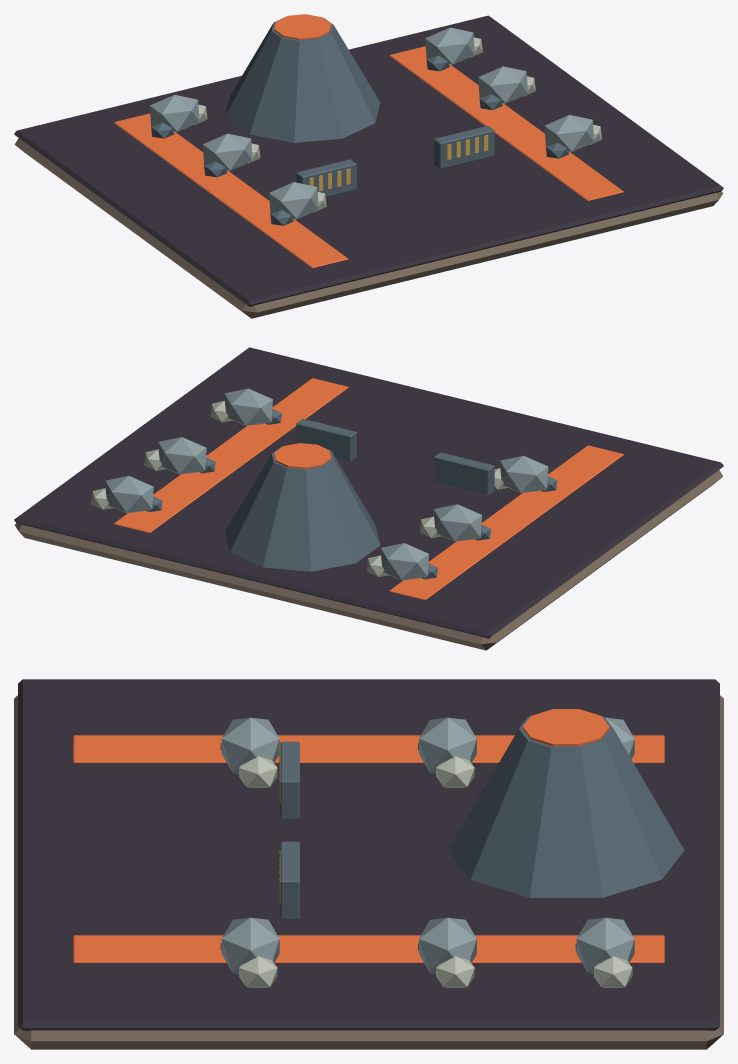
File: world-volcano.glb
3 renders of one model, top to bottom at view 1: azimuth 30°, elevation 25°; view 2: azimuth 150°, elevation 25°; view 3: azimuth 270°, elevation 25°, orthographic. The views are drawn at different scales.
Parts seen in each view (by area): view 1: terrain-top, volcano, terrain-stratum, lava-channel, lava-channel.001, barrier.002, rock.003, rock.012, rock.015, rock.018, rock.009, rock.006 (+2 smaller); view 2: terrain-top, volcano, terrain-stratum, lava-channel, lava-channel.001, barrier.001, barrier.002, rock.003, rock.009, rock.015, rock.006, rock.012 (+2 smaller); view 3: terrain-top, volcano, terrain-stratum, lava-channel.001, lava-channel, crater, rock.003, rock.012, rock.018, rock.006, rock.015, barrier.001 (+6 smaller).
Boxes of the visible parts, left/top/right/bottom form: terrain-top: left=14, top=15, right=723, bottom=306; volcano: left=225, top=17, right=380, bottom=142; terrain-stratum: left=14, top=138, right=723, bottom=318; lava-channel: left=114, top=113, right=348, bottom=268; lava-channel.001: left=389, top=46, right=623, bottom=200; barrier.002: left=434, top=126, right=494, bottom=168; rock.003: left=269, top=182, right=318, bottom=219; rock.012: left=544, top=115, right=594, bottom=152; rock.015: left=478, top=66, right=527, bottom=103; rock.018: left=425, top=27, right=474, bottom=64; rock.009: left=149, top=94, right=199, bottom=132; rock.006: left=202, top=133, right=252, bottom=170; terrain-top: left=14, top=347, right=723, bottom=638; volcano: left=225, top=446, right=380, bottom=571; terrain-stratum: left=15, top=470, right=723, bottom=650; lava-channel: left=389, top=445, right=623, bottom=600; lava-channel.001: left=114, top=378, right=348, bottom=532; barrier.001: left=434, top=452, right=494, bottom=495; barrier.002: left=296, top=419, right=356, bottom=461; rock.003: left=499, top=455, right=548, bottom=493; rock.009: left=380, top=543, right=428, bottom=580; rock.015: left=158, top=437, right=206, bottom=474; rock.006: left=433, top=504, right=482, bottom=541; rock.012: left=224, top=388, right=272, bottom=425; terrain-top: left=18, top=679, right=719, bottom=1030; volcano: left=448, top=716, right=684, bottom=897; terrain-stratum: left=14, top=695, right=723, bottom=1049; lava-channel.001: left=73, top=935, right=664, bottom=962; lava-channel: left=73, top=735, right=664, bottom=762; crater: left=522, top=709, right=609, bottom=746; rock.003: left=221, top=717, right=279, bottom=773; rock.012: left=221, top=917, right=279, bottom=973; rock.018: left=576, top=917, right=634, bottom=973; rock.006: left=419, top=717, right=476, bottom=773; rock.015: left=419, top=917, right=476, bottom=973; barrier.001: left=280, top=741, right=299, bottom=819.
Size of the model in its own units: 21 by 4.35 by 18.
